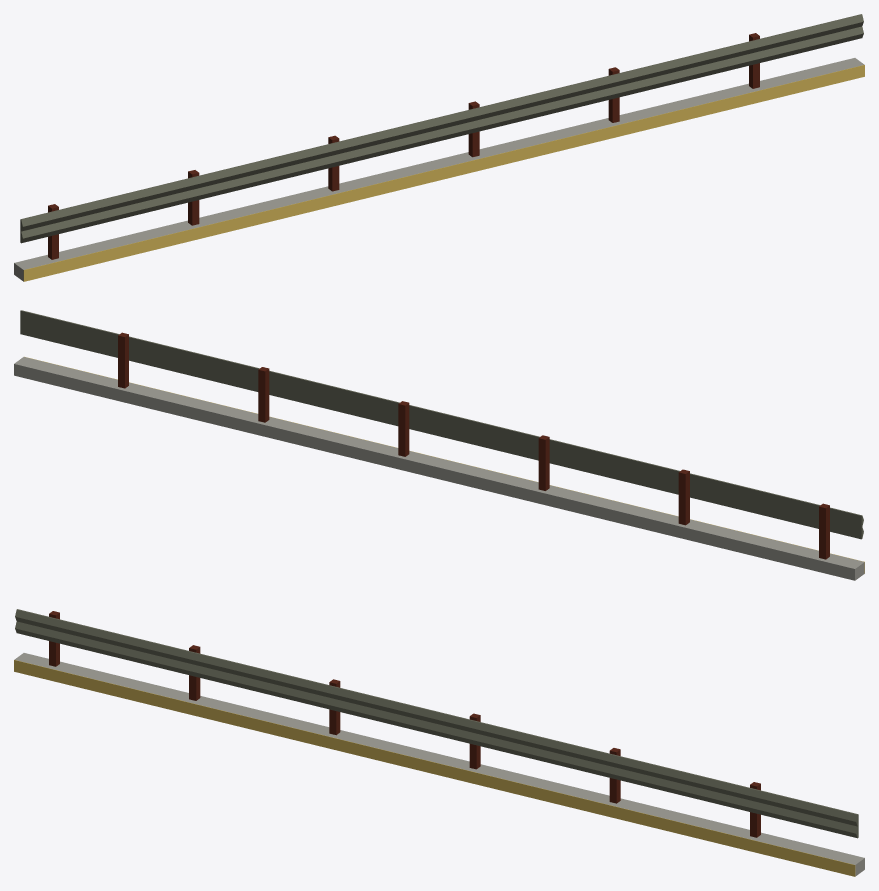
File: garage_rail_ew.glb
3 renders of one model, top to bottom at view 1: azimuth 30°, elevation 25°; view 2: azimuth 150°, elevation 25°; view 3: azimuth 330°, elevation 25°, orthographic.
Parts seen in each view (by area): view 1: garage_rail_ew_steel, garage_rail_ew_must, garage_rail_ew_conc, garage_rail_ew_rust; view 2: garage_rail_ew_steel, garage_rail_ew_conc, garage_rail_ew_rust; view 3: garage_rail_ew_steel, garage_rail_ew_must, garage_rail_ew_conc, garage_rail_ew_rust.
Part boxes in pixels (left/top/right/bottom): garage_rail_ew_steel: left=20, top=14, right=863, bottom=243; garage_rail_ew_must: left=23, top=65, right=864, bottom=281; garage_rail_ew_conc: left=14, top=58, right=864, bottom=281; garage_rail_ew_rust: left=48, top=33, right=759, bottom=259; garage_rail_ew_steel: left=20, top=310, right=863, bottom=539; garage_rail_ew_conc: left=14, top=357, right=864, bottom=580; garage_rail_ew_rust: left=118, top=332, right=829, bottom=559; garage_rail_ew_steel: left=15, top=609, right=858, bottom=838; garage_rail_ew_must: left=14, top=660, right=855, bottom=876; garage_rail_ew_conc: left=14, top=653, right=864, bottom=876; garage_rail_ew_rust: left=49, top=611, right=760, bottom=837.
Bounding box in the file's own units: 12 × 0.86 × 0.245.
